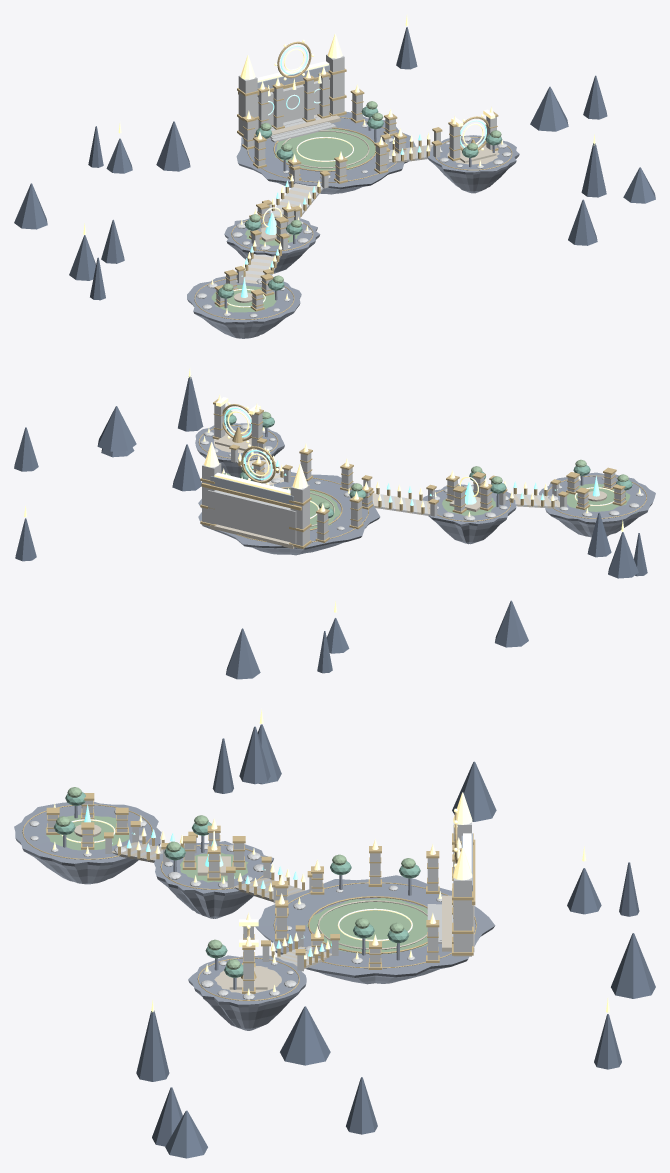
Rendered from SolarSanctuary_Enhanced_Yup_Mobile.glb.
The picture shows the model from 3 angles, top to bottom: view 1: azimuth 30°, elevation 25°; view 2: azimuth 150°, elevation 25°; view 3: azimuth 270°, elevation 25°; orthographic projection. The views are drawn at different scales.
Visible parts, largest first — view 1: WGA_Solar_SolarSanctuary_Enhanced_Yup_Mobile.glb_darkstone, WGA_Solar_SolarSanctuary_Enhanced_Yup_Mobile.glb_stone, WGA_Solar_SolarSanctuary_Enhanced_Yup_Mobile.glb_shadow, WGA_Solar_SolarSanctuary_Enhanced_Yup_Mobile.glb_gold, WGA_Solar_SolarSanctuary_Enhanced_Yup_Mobile.glb_grass, WGA_Solar_SolarSanctuary_Enhanced_Yup_Mobile.glb_goldbright, WGA_Solar_SolarSanctuary_Enhanced_Yup_Mobile.glb_sandstone, WGA_Solar_SolarSanctuary_Enhanced_Yup_Mobile.glb_leaf, WGA_Solar_SolarSanctuary_Enhanced_Yup_Mobile.glb_cyan, WGA_Solar_SolarSanctuary_Enhanced_Yup_Mobile.glb_slate; view 2: WGA_Solar_SolarSanctuary_Enhanced_Yup_Mobile.glb_stone, WGA_Solar_SolarSanctuary_Enhanced_Yup_Mobile.glb_darkstone, WGA_Solar_SolarSanctuary_Enhanced_Yup_Mobile.glb_shadow, WGA_Solar_SolarSanctuary_Enhanced_Yup_Mobile.glb_gold, WGA_Solar_SolarSanctuary_Enhanced_Yup_Mobile.glb_goldbright, WGA_Solar_SolarSanctuary_Enhanced_Yup_Mobile.glb_sandstone, WGA_Solar_SolarSanctuary_Enhanced_Yup_Mobile.glb_grass, WGA_Solar_SolarSanctuary_Enhanced_Yup_Mobile.glb_leaf, WGA_Solar_SolarSanctuary_Enhanced_Yup_Mobile.glb_cyan, WGA_Solar_SolarSanctuary_Enhanced_Yup_Mobile.glb_slate; view 3: WGA_Solar_SolarSanctuary_Enhanced_Yup_Mobile.glb_darkstone, WGA_Solar_SolarSanctuary_Enhanced_Yup_Mobile.glb_shadow, WGA_Solar_SolarSanctuary_Enhanced_Yup_Mobile.glb_stone, WGA_Solar_SolarSanctuary_Enhanced_Yup_Mobile.glb_gold, WGA_Solar_SolarSanctuary_Enhanced_Yup_Mobile.glb_grass, WGA_Solar_SolarSanctuary_Enhanced_Yup_Mobile.glb_goldbright, WGA_Solar_SolarSanctuary_Enhanced_Yup_Mobile.glb_sandstone, WGA_Solar_SolarSanctuary_Enhanced_Yup_Mobile.glb_leaf.
Part boxes in pixels (bbox=[...]): WGA_Solar_SolarSanctuary_Enhanced_Yup_Mobile.glb_darkstone: bbox=[187, 111, 519, 338]; WGA_Solar_SolarSanctuary_Enhanced_Yup_Mobile.glb_stone: bbox=[196, 54, 511, 317]; WGA_Solar_SolarSanctuary_Enhanced_Yup_Mobile.glb_shadow: bbox=[14, 27, 655, 300]; WGA_Solar_SolarSanctuary_Enhanced_Yup_Mobile.glb_gold: bbox=[194, 41, 512, 319]; WGA_Solar_SolarSanctuary_Enhanced_Yup_Mobile.glb_grass: bbox=[193, 101, 501, 312]; WGA_Solar_SolarSanctuary_Enhanced_Yup_Mobile.glb_goldbright: bbox=[83, 14, 595, 313]; WGA_Solar_SolarSanctuary_Enhanced_Yup_Mobile.glb_sandstone: bbox=[234, 114, 499, 302]; WGA_Solar_SolarSanctuary_Enhanced_Yup_Mobile.glb_leaf: bbox=[217, 106, 502, 298]; WGA_Solar_SolarSanctuary_Enhanced_Yup_Mobile.glb_cyan: bbox=[241, 45, 486, 297]; WGA_Solar_SolarSanctuary_Enhanced_Yup_Mobile.glb_slate: bbox=[257, 65, 329, 88]; WGA_Solar_SolarSanctuary_Enhanced_Yup_Mobile.glb_stone: bbox=[200, 404, 643, 549]; WGA_Solar_SolarSanctuary_Enhanced_Yup_Mobile.glb_darkstone: bbox=[195, 423, 655, 555]; WGA_Solar_SolarSanctuary_Enhanced_Yup_Mobile.glb_shadow: bbox=[14, 376, 647, 679]; WGA_Solar_SolarSanctuary_Enhanced_Yup_Mobile.glb_gold: bbox=[198, 399, 646, 548]; WGA_Solar_SolarSanctuary_Enhanced_Yup_Mobile.glb_goldbright: bbox=[24, 368, 640, 612]; WGA_Solar_SolarSanctuary_Enhanced_Yup_Mobile.glb_sandstone: bbox=[210, 431, 606, 548]; WGA_Solar_SolarSanctuary_Enhanced_Yup_Mobile.glb_grass: bbox=[223, 409, 637, 529]; WGA_Solar_SolarSanctuary_Enhanced_Yup_Mobile.glb_leaf: bbox=[224, 414, 632, 518]; WGA_Solar_SolarSanctuary_Enhanced_Yup_Mobile.glb_cyan: bbox=[224, 407, 599, 505]; WGA_Solar_SolarSanctuary_Enhanced_Yup_Mobile.glb_slate: bbox=[210, 476, 293, 505]; WGA_Solar_SolarSanctuary_Enhanced_Yup_Mobile.glb_darkstone: bbox=[14, 801, 495, 1030]; WGA_Solar_SolarSanctuary_Enhanced_Yup_Mobile.glb_shadow: bbox=[136, 724, 655, 1158]; WGA_Solar_SolarSanctuary_Enhanced_Yup_Mobile.glb_stone: bbox=[29, 800, 473, 999]; WGA_Solar_SolarSanctuary_Enhanced_Yup_Mobile.glb_gold: bbox=[22, 793, 476, 1000]; WGA_Solar_SolarSanctuary_Enhanced_Yup_Mobile.glb_grass: bbox=[45, 787, 427, 969]; WGA_Solar_SolarSanctuary_Enhanced_Yup_Mobile.glb_goldbright: bbox=[53, 708, 609, 1012]; WGA_Solar_SolarSanctuary_Enhanced_Yup_Mobile.glb_sandstone: bbox=[74, 824, 474, 993]; WGA_Solar_SolarSanctuary_Enhanced_Yup_Mobile.glb_leaf: bbox=[53, 792, 420, 977].
Size of the model in its own units: 74.87 by 20.2 by 55.8.
